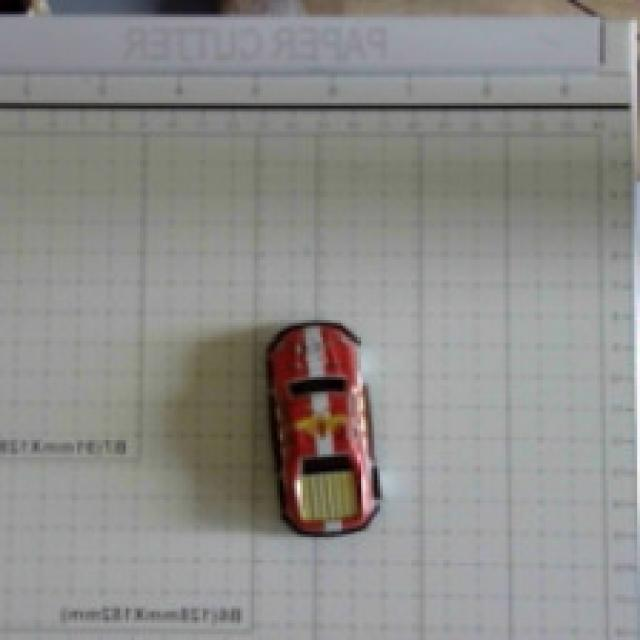Red Car: (202, 279, 420, 561)
